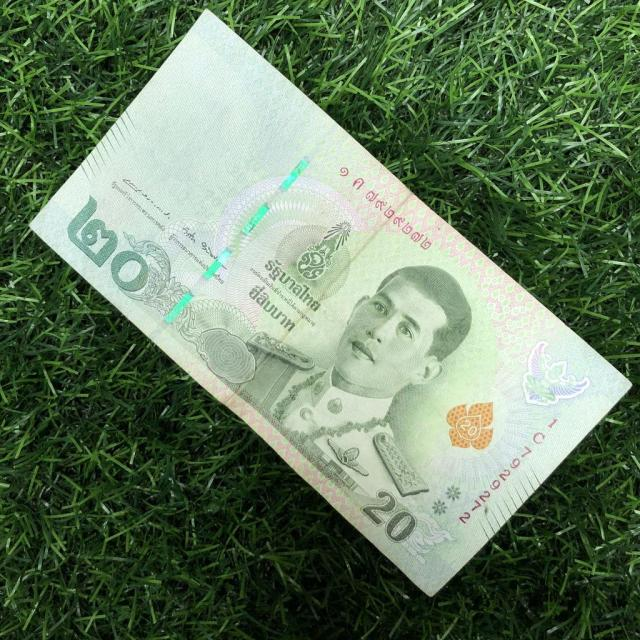THAI20: (32, 11, 629, 594)
